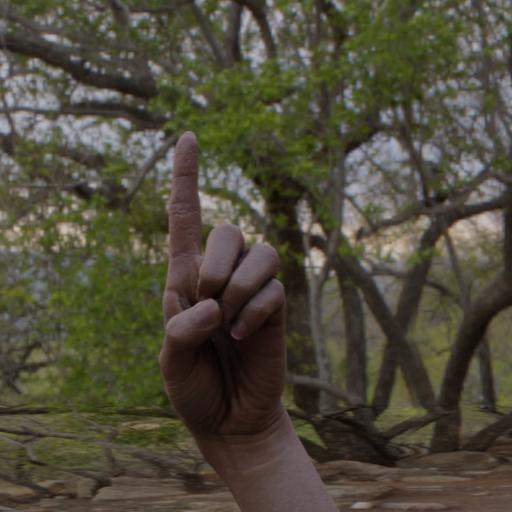D: (150, 126, 298, 464)
